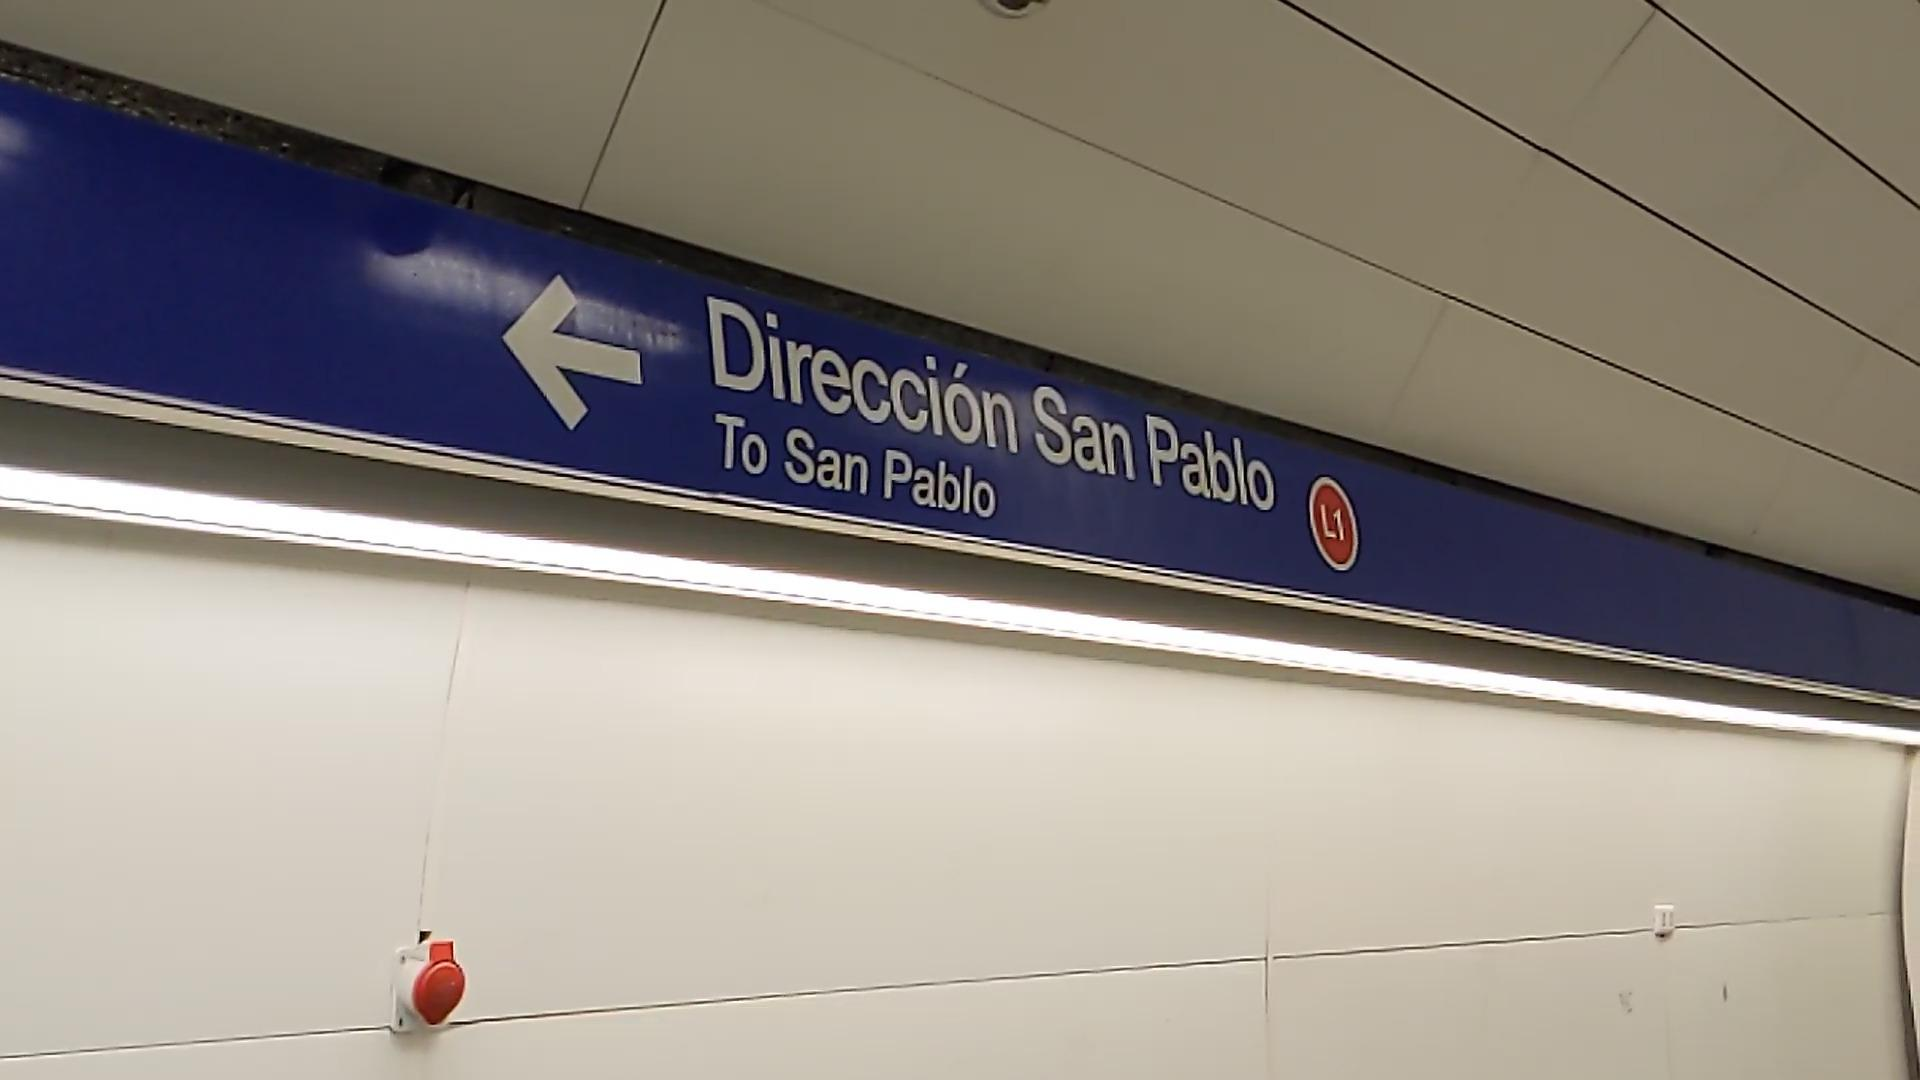left arrow: (492, 268, 649, 438)
